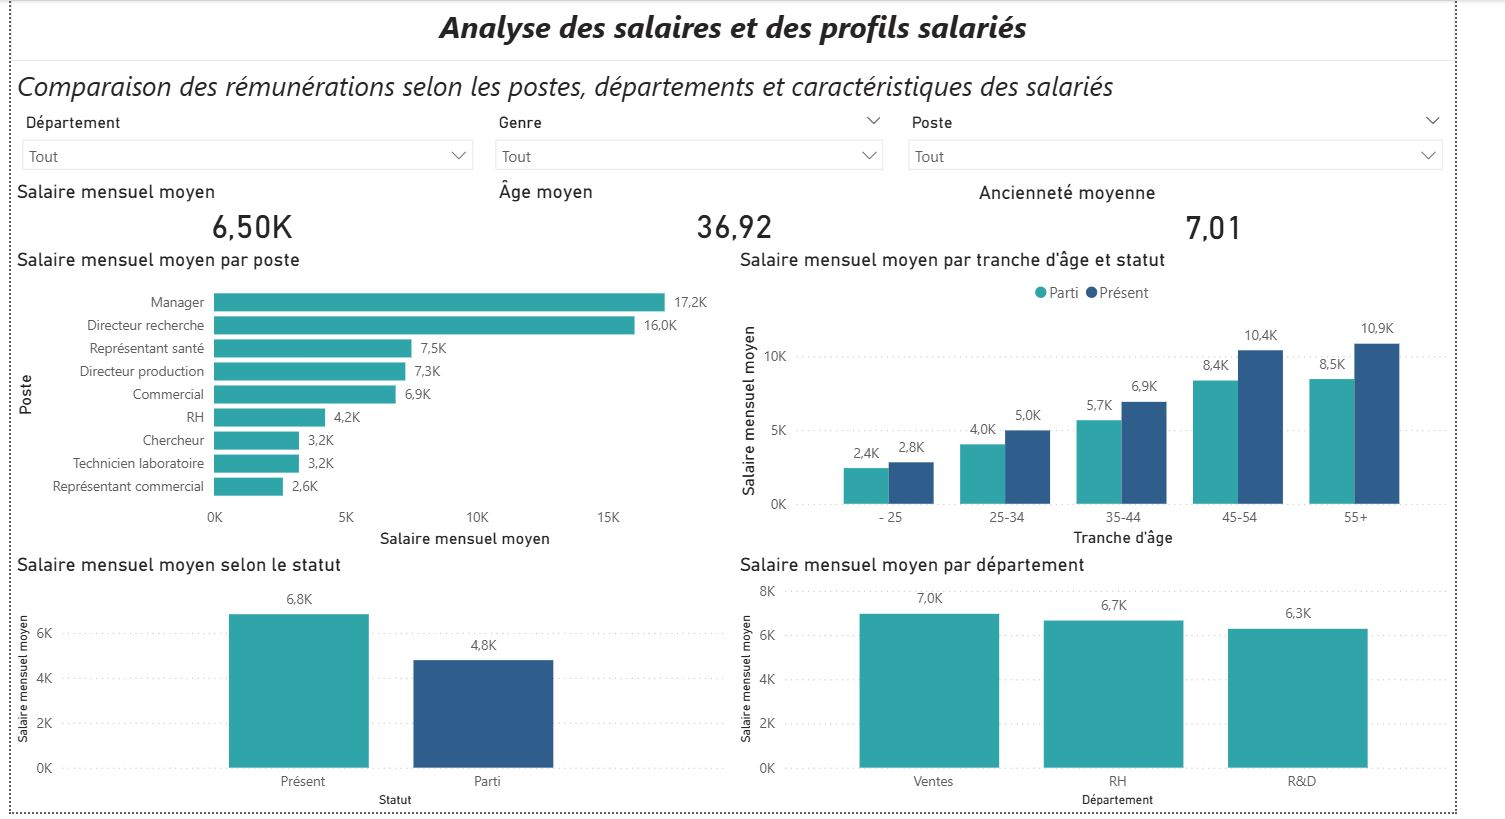

The page's visual inventory and layout, read from the dashboard file:
{"tool":"powerbi","page":{"name":"Salaires et profils employés","canvas":[1280,720],"ordinal":2},"visuals":[{"type":"textbox","box":[0,0,1280.4,54],"z":0},{"type":"textbox","box":[0,54.1,1280.4,41.7],"z":1000},{"type":"slicer","fields":{"Values":["Employees.C_Genre"]},"box":[419.7,96.1,364.4,63.5],"z":2000},{"type":"slicer","fields":{"Values":["Employees.C_Poste"]},"box":[785.9,96.1,494.1,63.5],"z":3000},{"type":"slicer","fields":{"Values":["Employees.C_Department_Label"]},"box":[0,96.1,419.7,63.5],"z":4000},{"type":"card","title":"Salaire mensuel moyen","fields":{"Values":["Employees.m_Average_Monthly_Income"]},"box":[0,159.5,427,60.7],"z":5000},{"type":"card","title":"Ancienneté moyenne","fields":{"Values":["Employees.m_Average_Years_at_Company"]},"box":[853,160.5,427,59.8],"z":6000},{"type":"card","title":"Âge moyen","fields":{"Values":["Employees.m_Average_Age"]},"box":[427,159.5,427.9,60.7],"z":7000},{"type":"clusteredBarChart","title":"Salaire mensuel moyen par poste","fields":{"Category":["Employees.C_Poste"],"Y":["Employees.m_Average_Monthly_Income"]},"box":[0,220.3,640,270.1],"z":8000},{"type":"clusteredColumnChart","title":"Salaire mensuel moyen par département","fields":{"Category":["Employees.C_Department_Label"],"Y":["Employees.m_Average_Monthly_Income"]},"box":[640.9,490.4,639.1,229.3],"z":9000},{"type":"clusteredColumnChart","title":"Salaire mensuel moyen selon le statut","fields":{"Y":["Employees.m_Average_Monthly_Income"],"Category":["Employees.C_Attrition_Label"]},"box":[0,490.4,640,229.3],"z":10000},{"type":"clusteredColumnChart","title":"Salaire mensuel moyen par tranche d''âge et statut","fields":{"Category":["Employees.C_Age_Group"],"Series":["Employees.C_Attrition_Label"],"Y":["Employees.m_Average_Monthly_Income"]},"box":[640.9,220.3,639.1,270.1],"z":11000}]}

Visuals, with their boxes on the page's 1280x720 design canvas (x1, y1, x2, y2). These are canvas units, not pixel positions in the 1505x819 screenshot, which may show the page scaled, cropped or inside an application window:
textbox: 0/0/1280/54
textbox: 0/54/1280/96
slicer - Employees.C_Genre: 420/96/784/160
slicer - Employees.C_Poste: 786/96/1280/160
slicer - Employees.C_Department_Label: 0/96/420/160
"Salaire mensuel moyen" card: 0/160/427/220
"Ancienneté moyenne" card: 853/160/1280/220
"Âge moyen" card: 427/160/855/220
"Salaire mensuel moyen par poste" clusteredBarChart: 0/220/640/490
"Salaire mensuel moyen par département" clusteredColumnChart: 641/490/1280/720
"Salaire mensuel moyen selon le statut" clusteredColumnChart: 0/490/640/720
"Salaire mensuel moyen par tranche d''âge et statut" clusteredColumnChart: 641/220/1280/490
